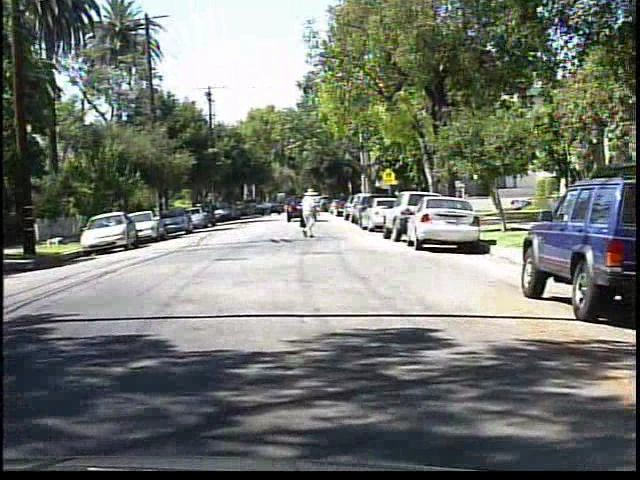person: (295, 188, 325, 241)
